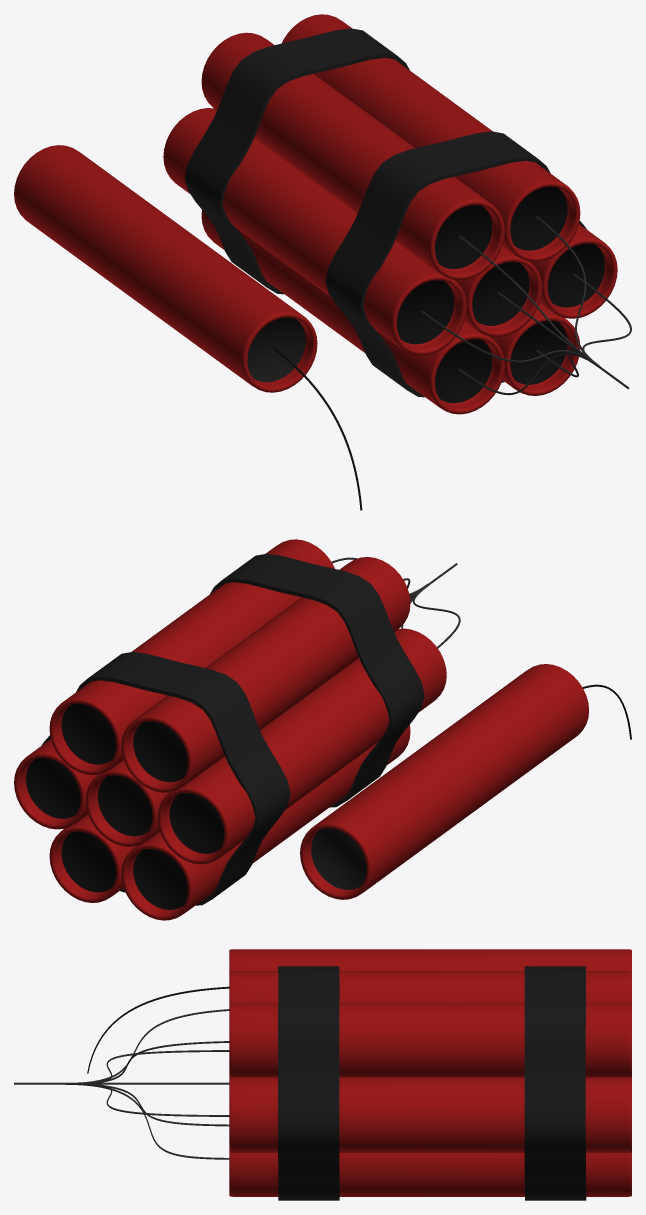
File: Dynamite.fbx
3 views of the same model, one above another, from view 1: azimuth 30°, elevation 25°; view 2: azimuth 150°, elevation 25°; view 3: azimuth 270°, elevation 25° (orthographic). The views are drawn at different scales.
Visible parts, largest first — view 1: DynamiteBundle, DynamiteStick; view 2: DynamiteBundle, DynamiteStick; view 3: DynamiteBundle, DynamiteStick.
Part boxes in pixels (x1,y1,x2,y2): DynamiteBundle: (163, 14, 631, 414); DynamiteStick: (14, 145, 362, 510); DynamiteBundle: (14, 539, 460, 920); DynamiteStick: (300, 664, 631, 899); DynamiteBundle: (14, 966, 631, 1200); DynamiteStick: (87, 949, 631, 1073).
Size of the model in its own units: 315 by 177 by 507.
